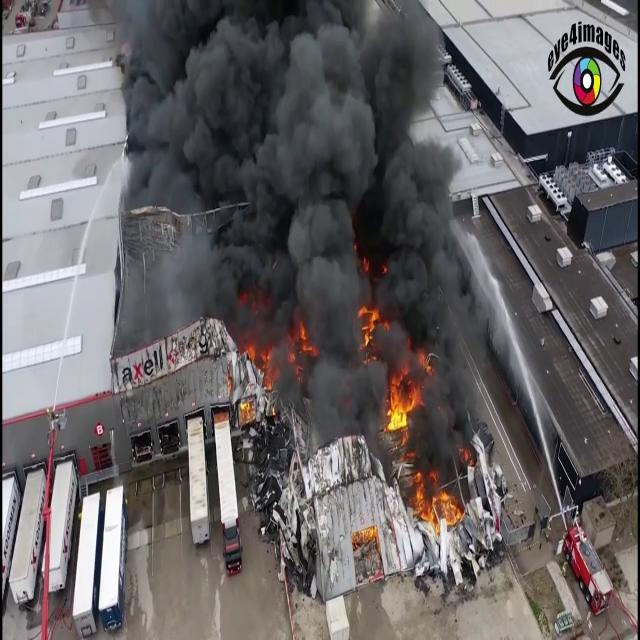Fire: (380, 358, 430, 447), (412, 476, 474, 545), (241, 334, 279, 424)
Smoke: (104, 2, 498, 451)
